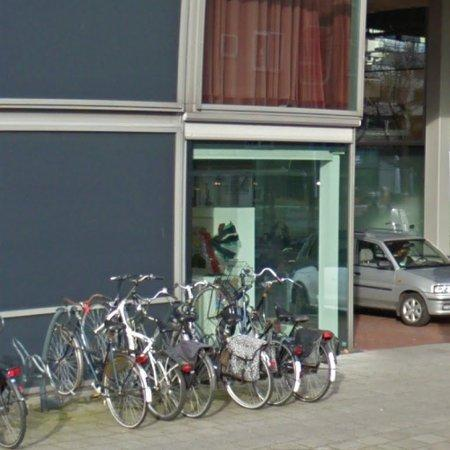bicycles: (42, 294, 147, 428)
